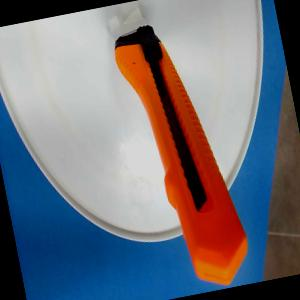estilete: (109, 13, 255, 298)
